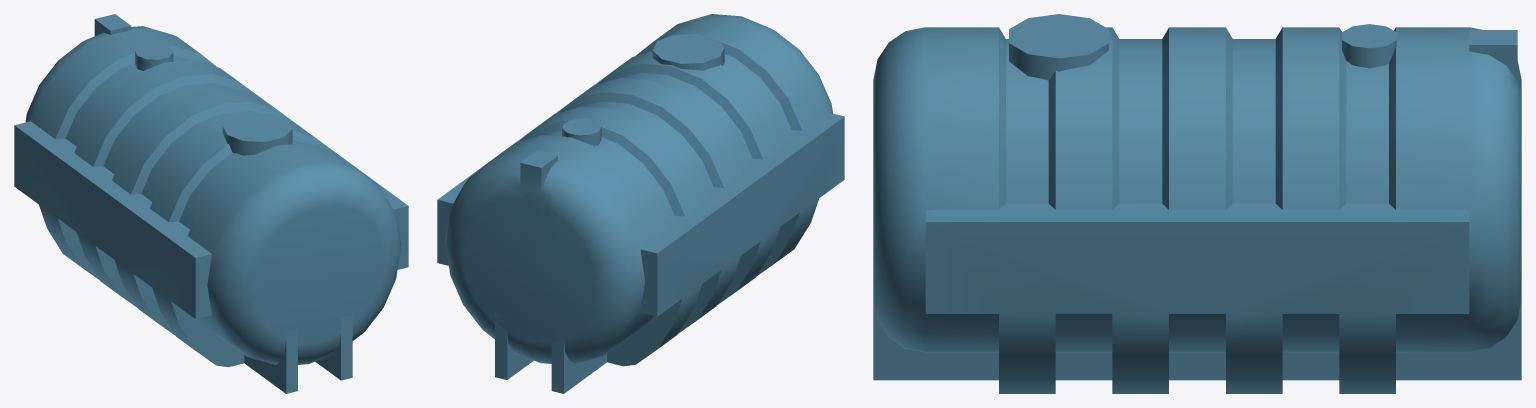
File: GJ_Decor_Tank_03.fbx
3 views of the same model, side by side, from view 1: azimuth 30°, elevation 25°; view 2: azimuth 150°, elevation 25°; view 3: azimuth 270°, elevation 25° (orthographic). The views are drawn at different scales.
Visible parts, largest first — view 1: GJ_Decor_Tank_03; view 2: GJ_Decor_Tank_03; view 3: GJ_Decor_Tank_03.
Part boxes in pixels (<box>): GJ_Decor_Tank_03: <box>14,14,408,393</box>; GJ_Decor_Tank_03: <box>437,14,844,393</box>; GJ_Decor_Tank_03: <box>873,14,1521,393</box>.
Bounding box in the file's own units: 18.12 × 17.32 × 31.81.
